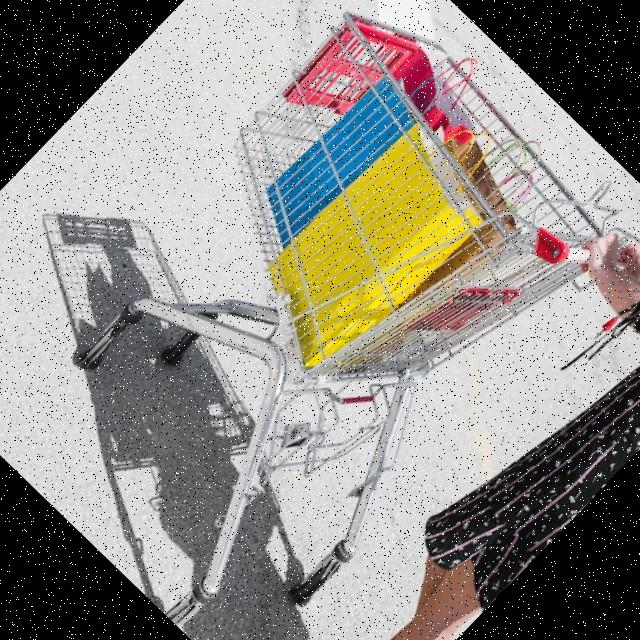Person: (194, 183, 640, 640)
